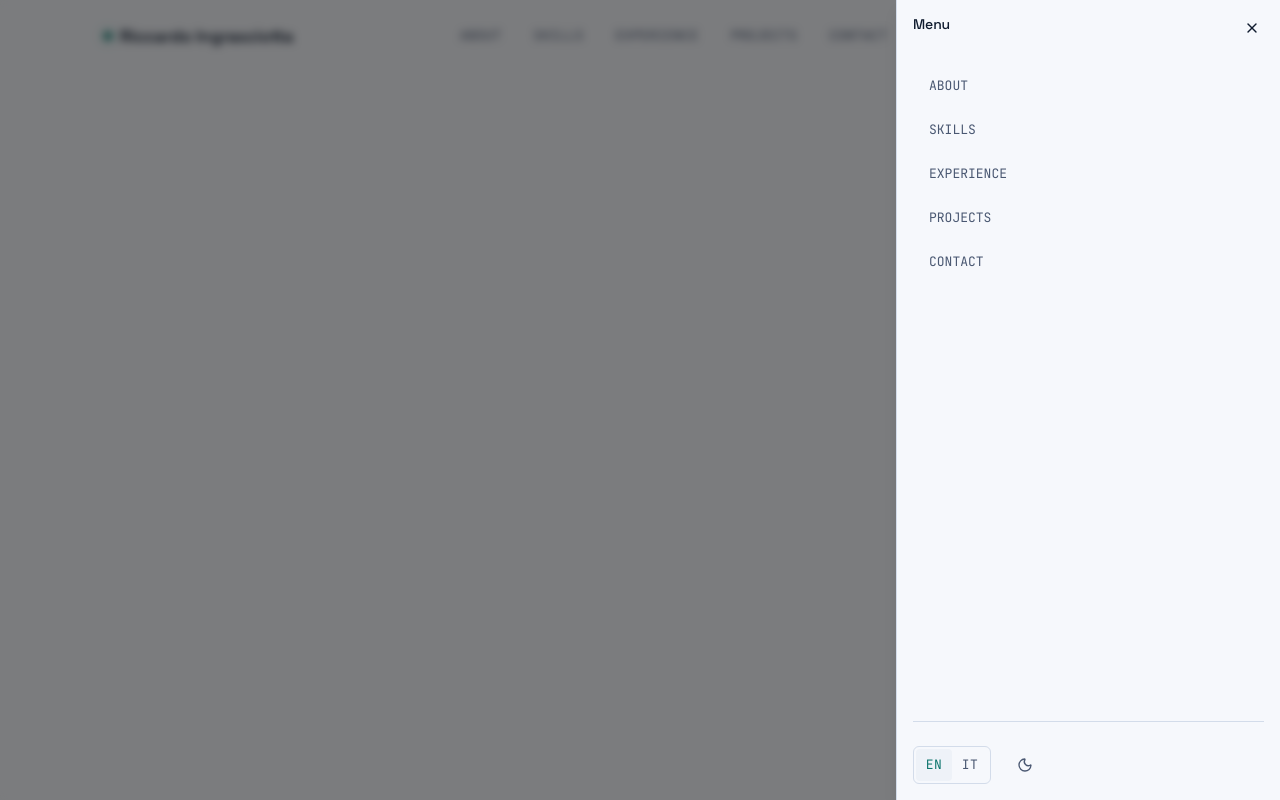
Test case: Header › closes the sidebar with the close button
Earlier steps of the test are not shown.
Click the button named "Close menu": (1252, 28) [1236, 12, 1268, 44]
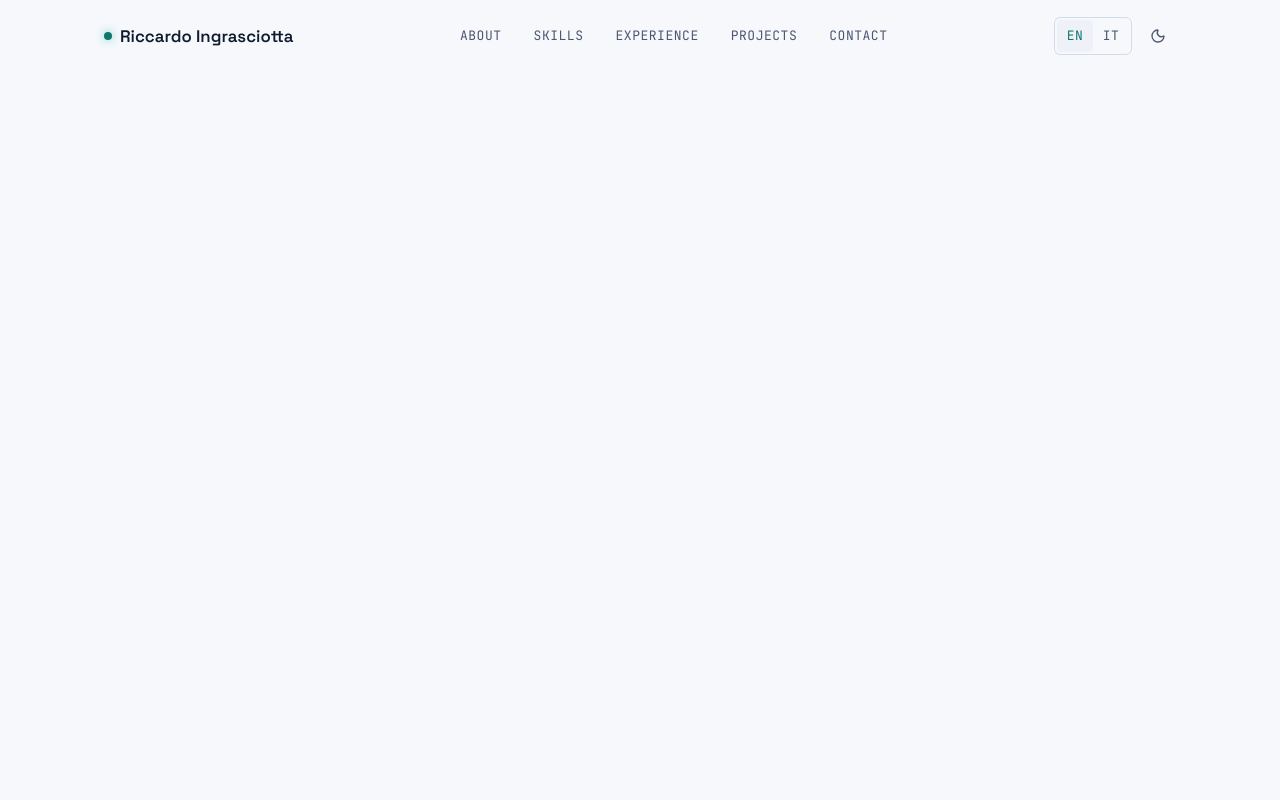
Check: the dialog is gone
